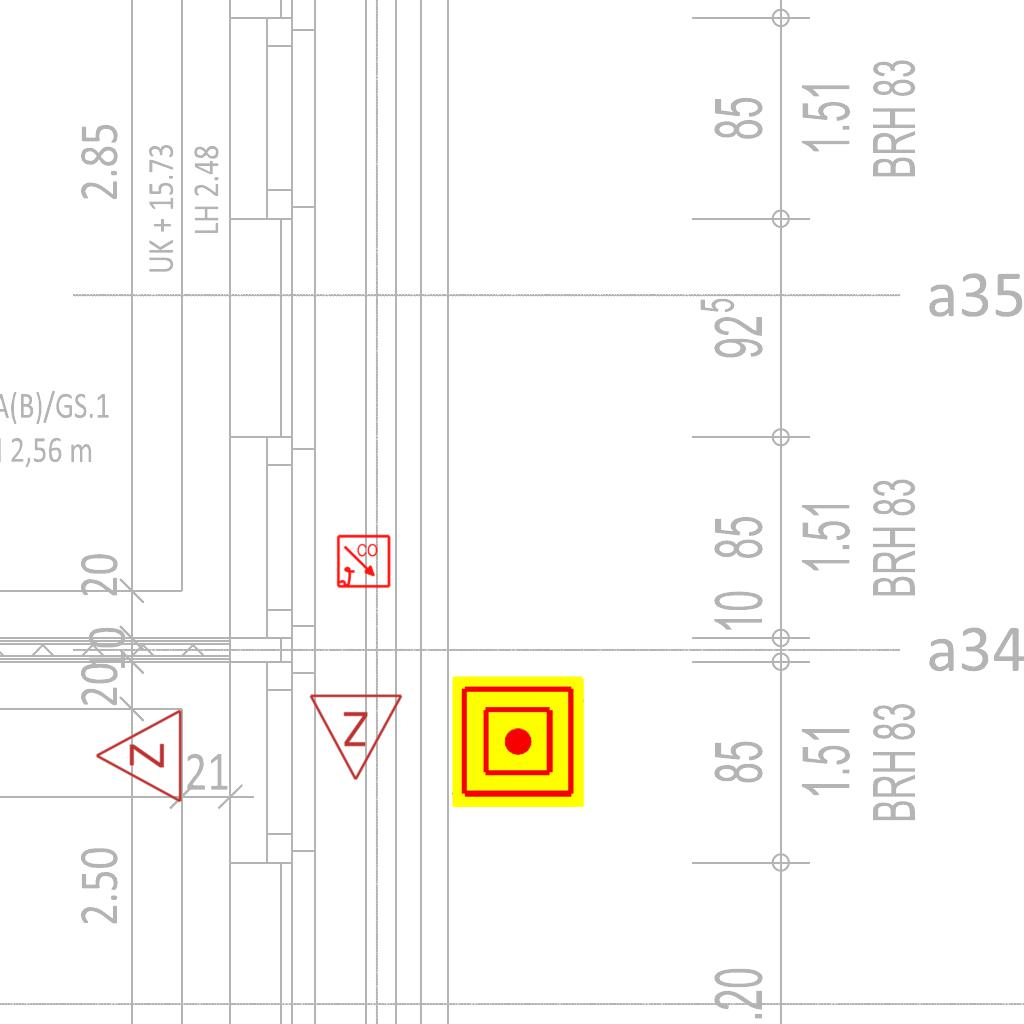NAM-Nichtautomatischer_Melder: (452, 676, 584, 808)
ROA_Rauchmelder_optisch_mit_Signalgeber_(Sockelsirene): (336, 534, 392, 590)
Zimmersignalleuchte: (89, 708, 189, 806), (308, 687, 406, 787)
